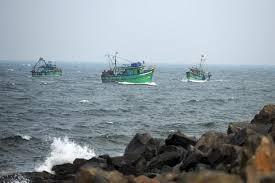fishing boat: (96, 50, 158, 85), (185, 53, 213, 83), (30, 57, 64, 78)
